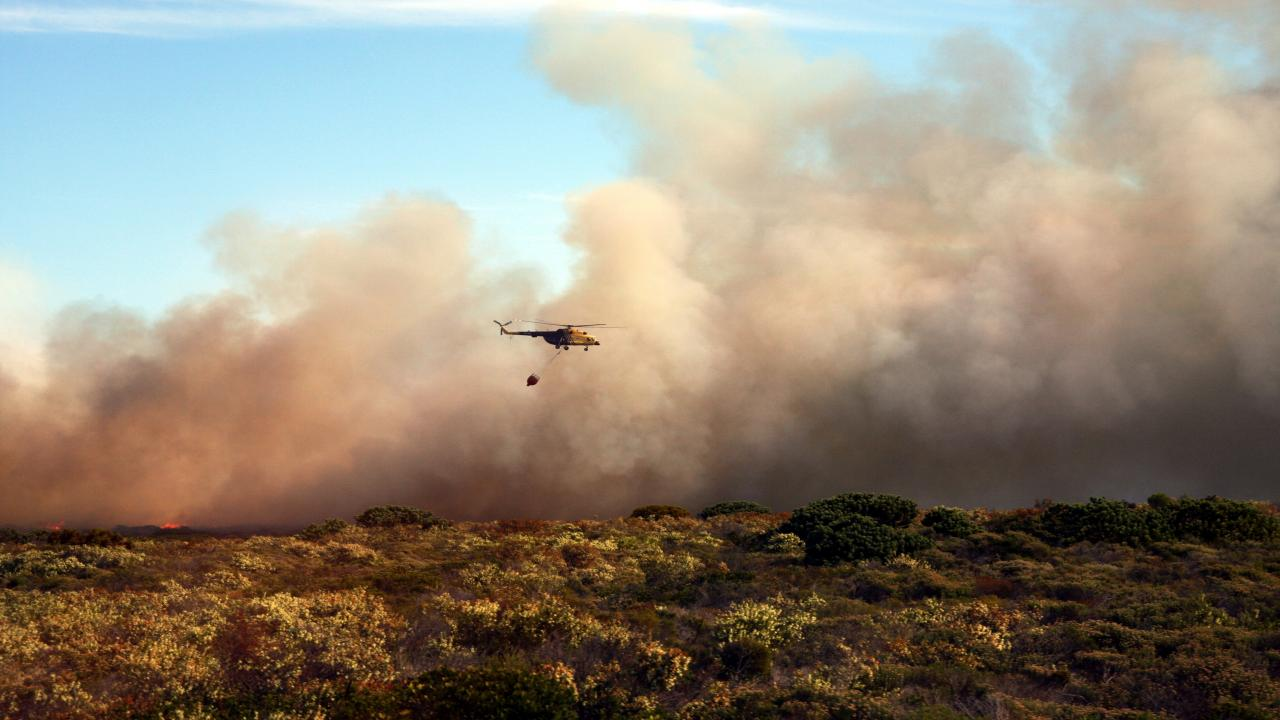Helicopter: (475, 304, 627, 373)
